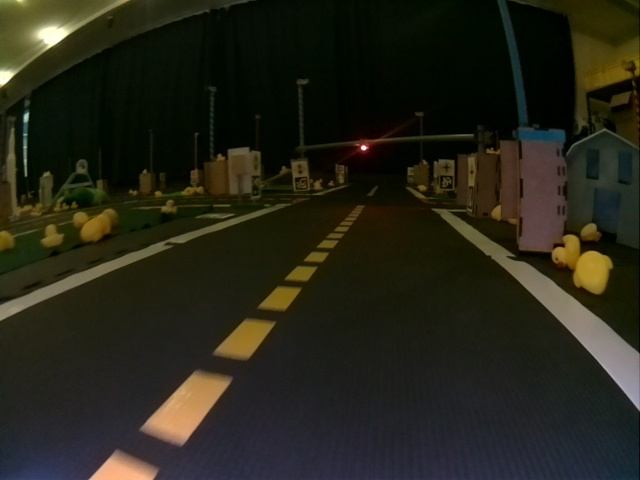Duckie: (572, 251, 610, 292), (553, 236, 580, 269), (40, 226, 63, 248), (82, 220, 103, 240), (581, 221, 598, 241), (160, 200, 177, 216), (1, 231, 15, 250), (74, 211, 86, 227), (314, 181, 323, 190), (217, 153, 226, 162)
QR code: (439, 175, 453, 189), (294, 177, 307, 190)
Signal sign: (294, 163, 306, 175)
